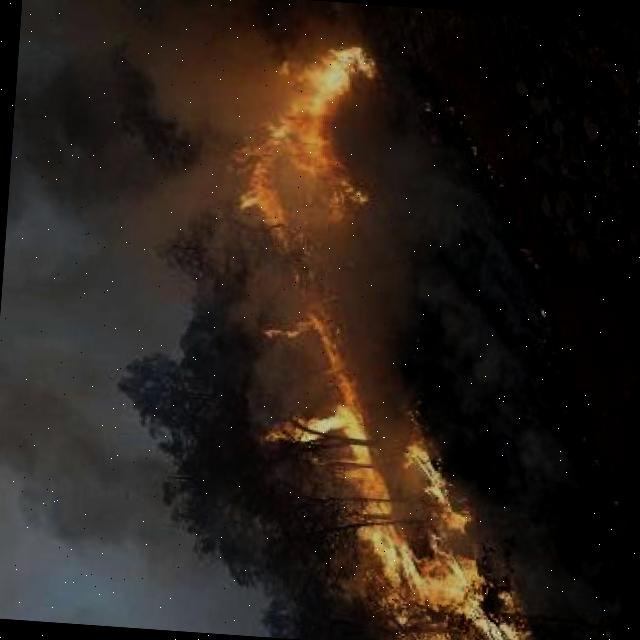fire: (253, 301, 547, 640), (227, 28, 387, 233)
